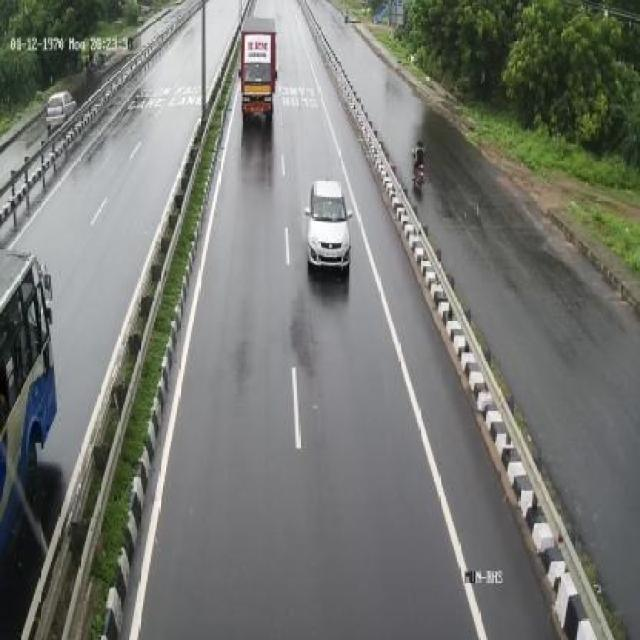car: (304, 172, 354, 283), (40, 88, 78, 132)
